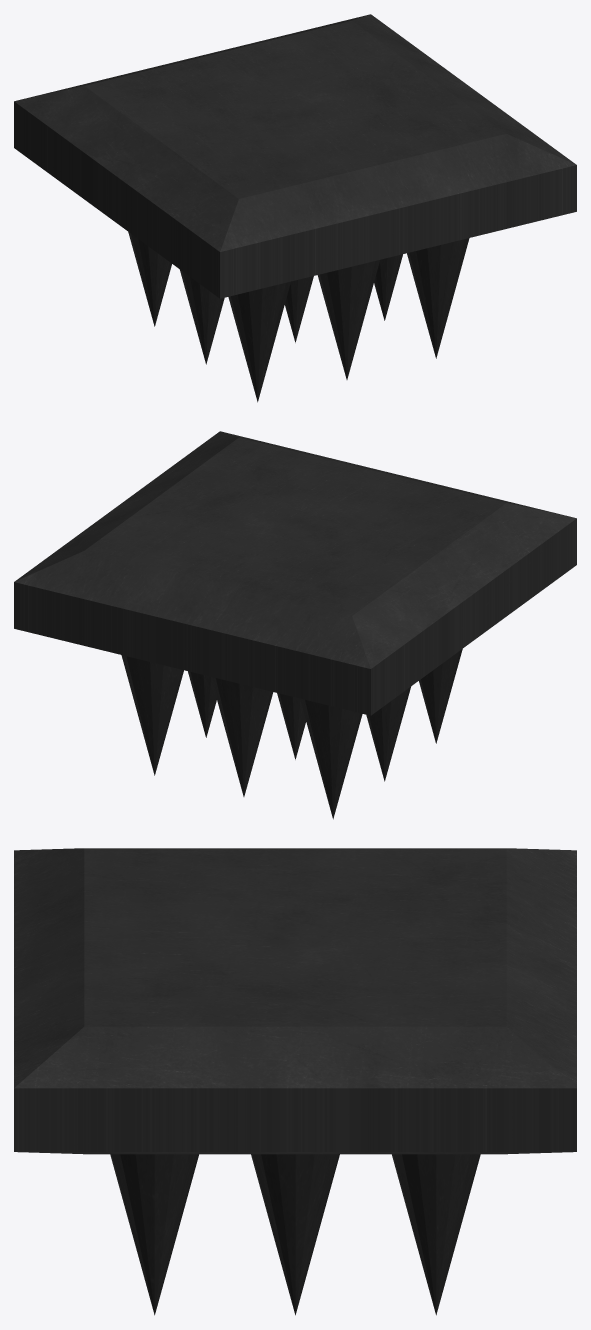
Rendered from square_platform.fbx.
The picture shows the model from 3 angles, top to bottom: view 1: azimuth 30°, elevation 25°; view 2: azimuth 150°, elevation 25°; view 3: azimuth 270°, elevation 25°; orthographic projection. The views are drawn at different scales.
Visible parts, largest first — view 1: polySurface39; view 2: polySurface39; view 3: polySurface39.
Boxes of the visible parts, left/top/right/bottom form: polySurface39: left=14, top=14, right=576, bottom=402; polySurface39: left=14, top=431, right=576, bottom=819; polySurface39: left=14, top=848, right=576, bottom=1315.
Bounding box in the file's own units: 4 × 2.5 × 4.
